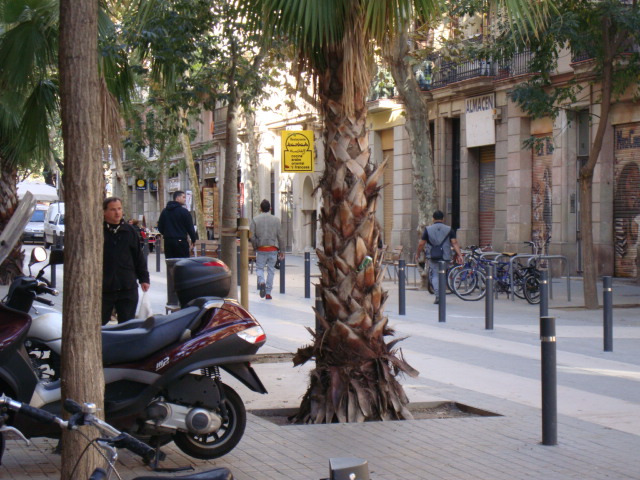deflection: (163, 189, 194, 221)
undeflect: (101, 198, 143, 254)
